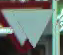Give way: (1, 3, 50, 53)
